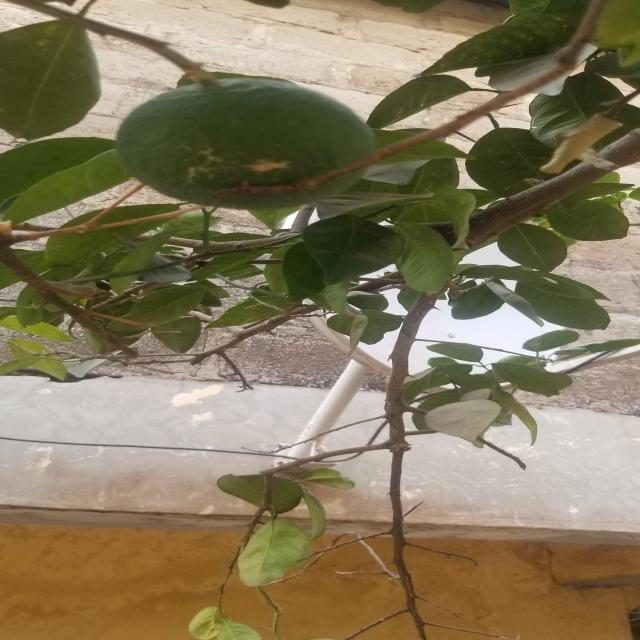Unripe: (114, 68, 395, 227)
